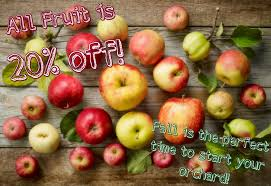apple: (158, 99, 203, 142), (100, 67, 144, 105), (114, 113, 156, 146), (151, 56, 187, 92), (214, 51, 251, 85), (22, 124, 63, 153), (79, 110, 118, 140), (66, 34, 103, 64), (50, 73, 84, 105), (130, 32, 164, 64), (181, 30, 211, 61), (160, 4, 192, 31), (12, 153, 43, 180), (95, 15, 127, 39), (226, 117, 256, 141), (205, 92, 233, 117), (102, 143, 128, 168), (72, 145, 94, 171), (240, 84, 264, 106), (18, 97, 43, 118), (187, 153, 215, 171), (4, 116, 22, 136), (153, 149, 175, 165)
